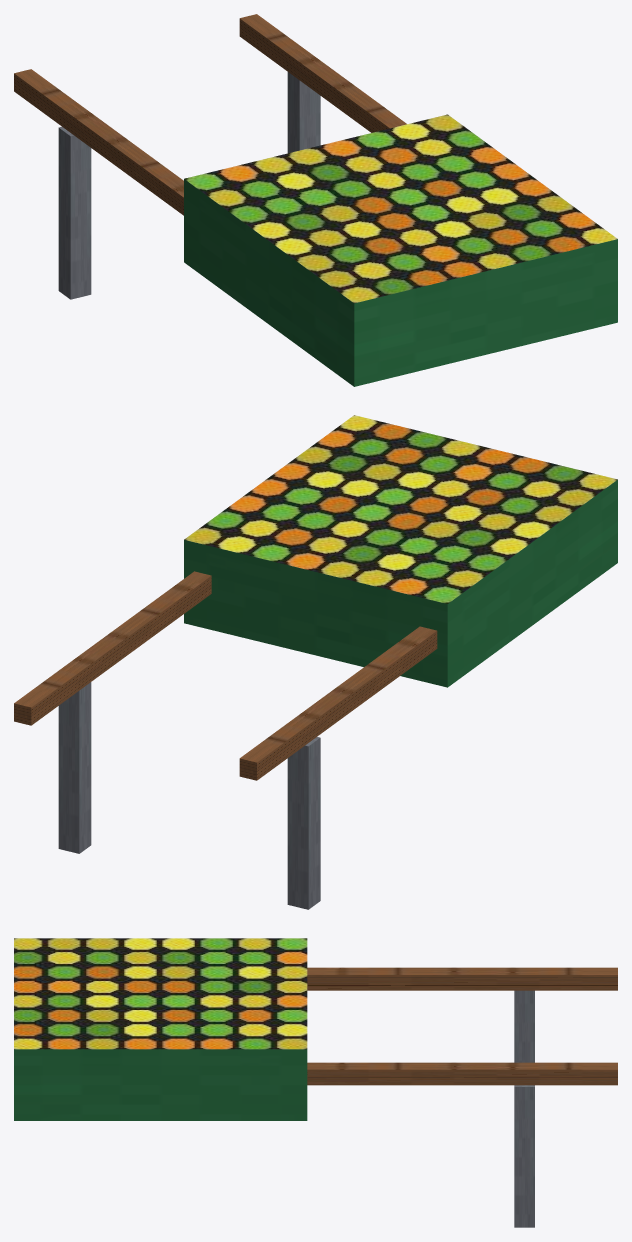
File: wheelbarrow-cream.glb
3 renders of one model, top to bottom at view 1: azimuth 30°, elevation 25°; view 2: azimuth 150°, elevation 25°; view 3: azimuth 270°, elevation 25°, orthographic. The views are drawn at different scales.
Parts seen in each view (by area): view 1: wheelbarrow-cream; view 2: wheelbarrow-cream; view 3: wheelbarrow-cream.
Part boxes in pixels (bbox=[...]): wheelbarrow-cream: bbox=[14, 14, 617, 386]; wheelbarrow-cream: bbox=[14, 415, 617, 909]; wheelbarrow-cream: bbox=[14, 938, 617, 1227].
Bounding box in the file's own units: 0.76 × 0.58 × 1.75.
Materials: 1 (1 with a texture image).
